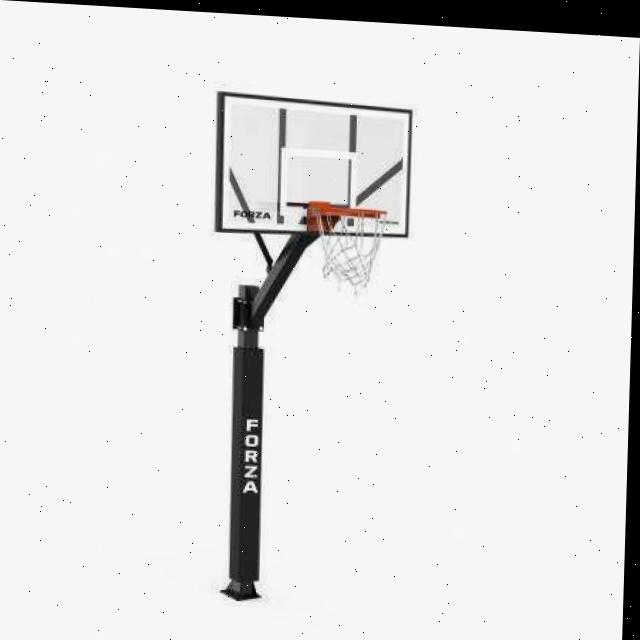hoop: (311, 205, 388, 296)
